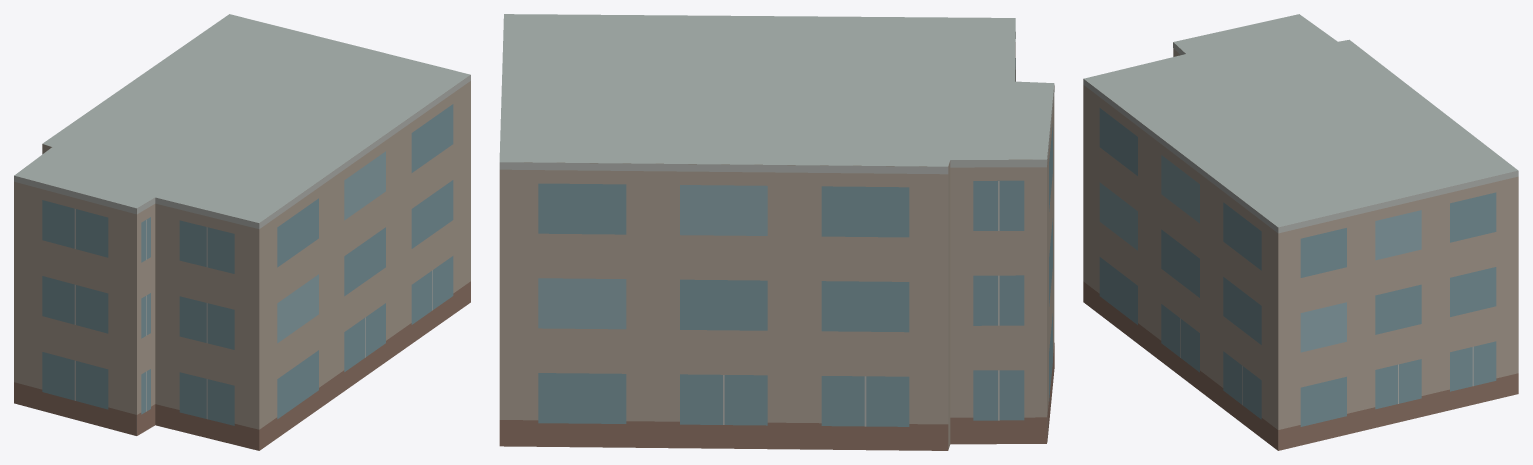
The model's file is survey-upis-32713708.glb.
3 renders of one model, left to right at view 1: azimuth 30°, elevation 25°; view 2: azimuth 150°, elevation 25°; view 3: azimuth 270°, elevation 25°, orthographic. The views are drawn at different scales.
Parts seen in each view (by area): view 1: survey-upis-32713708.tmp; view 2: survey-upis-32713708.tmp; view 3: survey-upis-32713708.tmp.
Part boxes in pixels (x1=…): survey-upis-32713708.tmp: x1=14, y1=14, x2=470, y2=450; survey-upis-32713708.tmp: x1=499, y1=14, x2=1054, y2=450; survey-upis-32713708.tmp: x1=1083, y1=14, x2=1518, y2=450.
Size of the model in its own units: 18.76 by 9.15 by 16.16.
